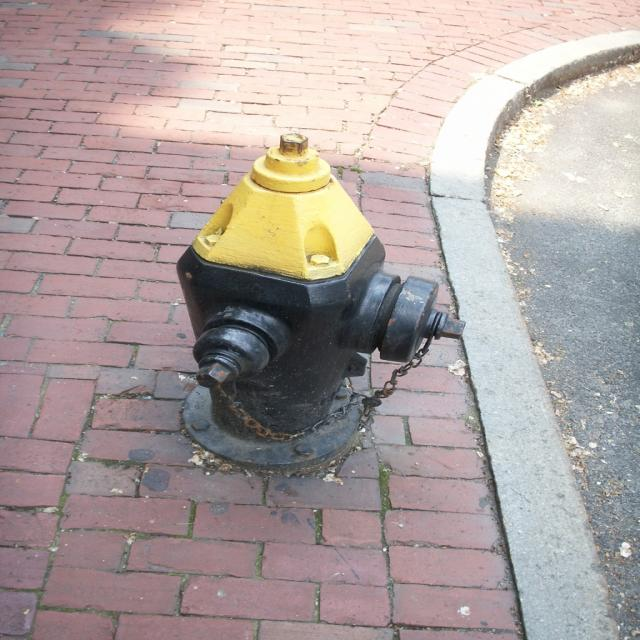fire_hydrant: (170, 132, 468, 470)
